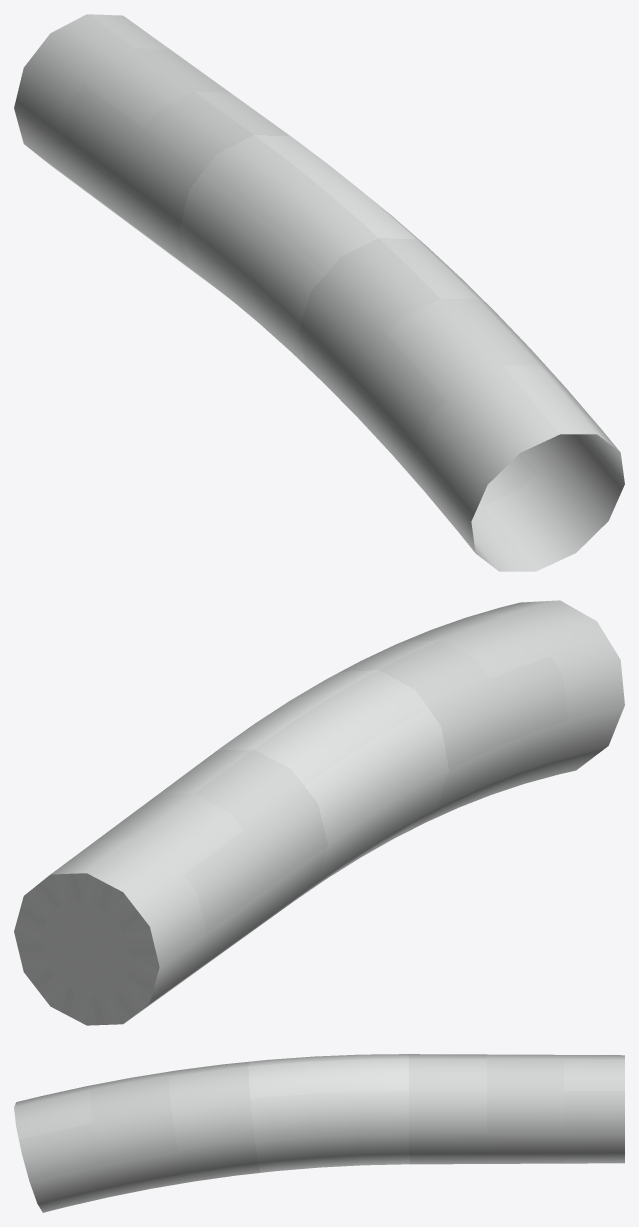
Rendered from luminairearm_caltrans12ftstraightdouble_c6.obj.
The picture shows the model from 3 angles, top to bottom: view 1: azimuth 30°, elevation 25°; view 2: azimuth 150°, elevation 25°; view 3: azimuth 270°, elevation 25°; orthographic projection. The views are drawn at different scales.
Parts seen in each view (by area): view 1: luminairearm_caltrans12ftstraightdouble_c6; view 2: luminairearm_caltrans12ftstraightdouble_c6; view 3: luminairearm_caltrans12ftstraightdouble_c6.
Part boxes in pixels (x1,y1,x2,y2): luminairearm_caltrans12ftstraightdouble_c6: [14, 14, 624, 571]; luminairearm_caltrans12ftstraightdouble_c6: [14, 600, 624, 1025]; luminairearm_caltrans12ftstraightdouble_c6: [14, 1054, 624, 1212].
Size of the model in its own units: 0.1846 by 0.2641 by 0.9851.
